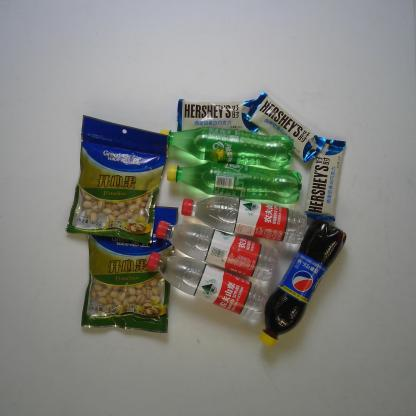Chocolate: (244, 91, 327, 163), (304, 139, 346, 221), (177, 98, 259, 135)
Dried Fruit: (63, 115, 170, 244), (80, 202, 178, 333)
Drink: (258, 220, 346, 347), (146, 249, 269, 322), (155, 220, 280, 281), (181, 195, 309, 244), (159, 127, 294, 170), (167, 163, 302, 204)
